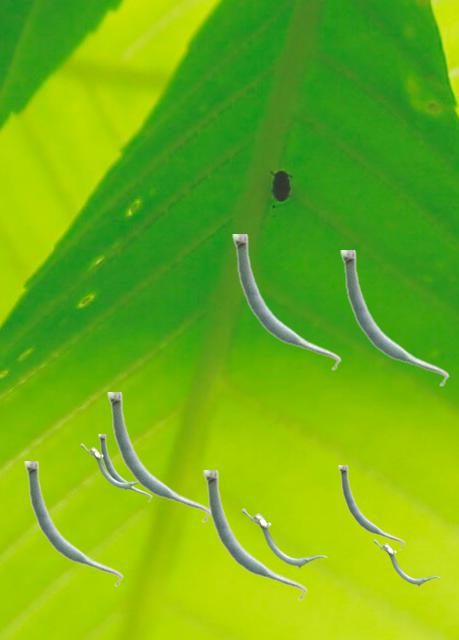french_bean: (232, 234, 340, 370), (340, 250, 448, 386), (203, 470, 306, 600), (107, 392, 210, 522), (24, 461, 122, 586), (338, 465, 404, 549), (241, 508, 326, 567), (98, 434, 151, 501), (373, 539, 439, 585), (80, 443, 136, 489)
